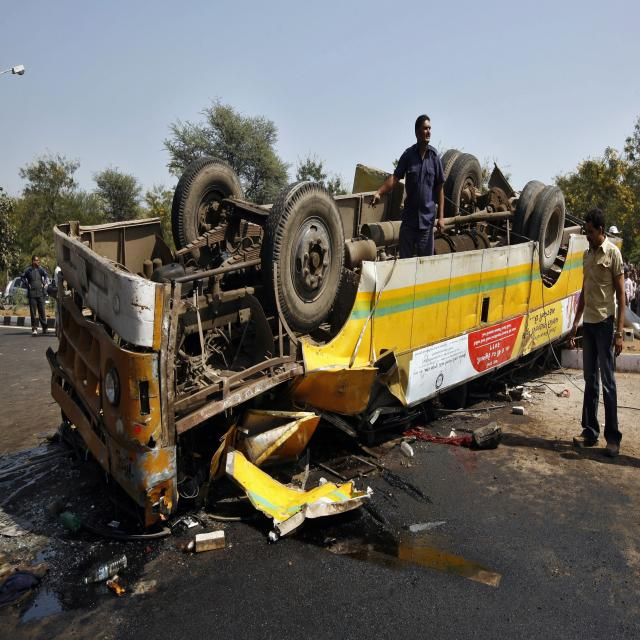accident: (46, 151, 588, 536)
